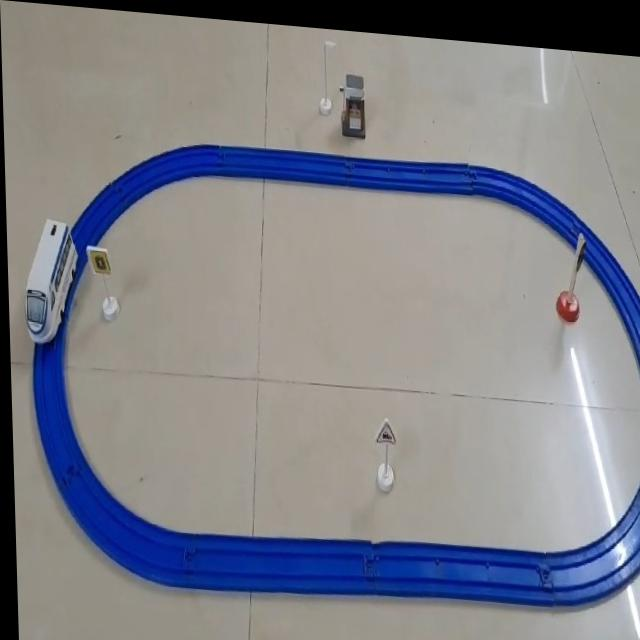bus: (19, 214, 78, 345)
